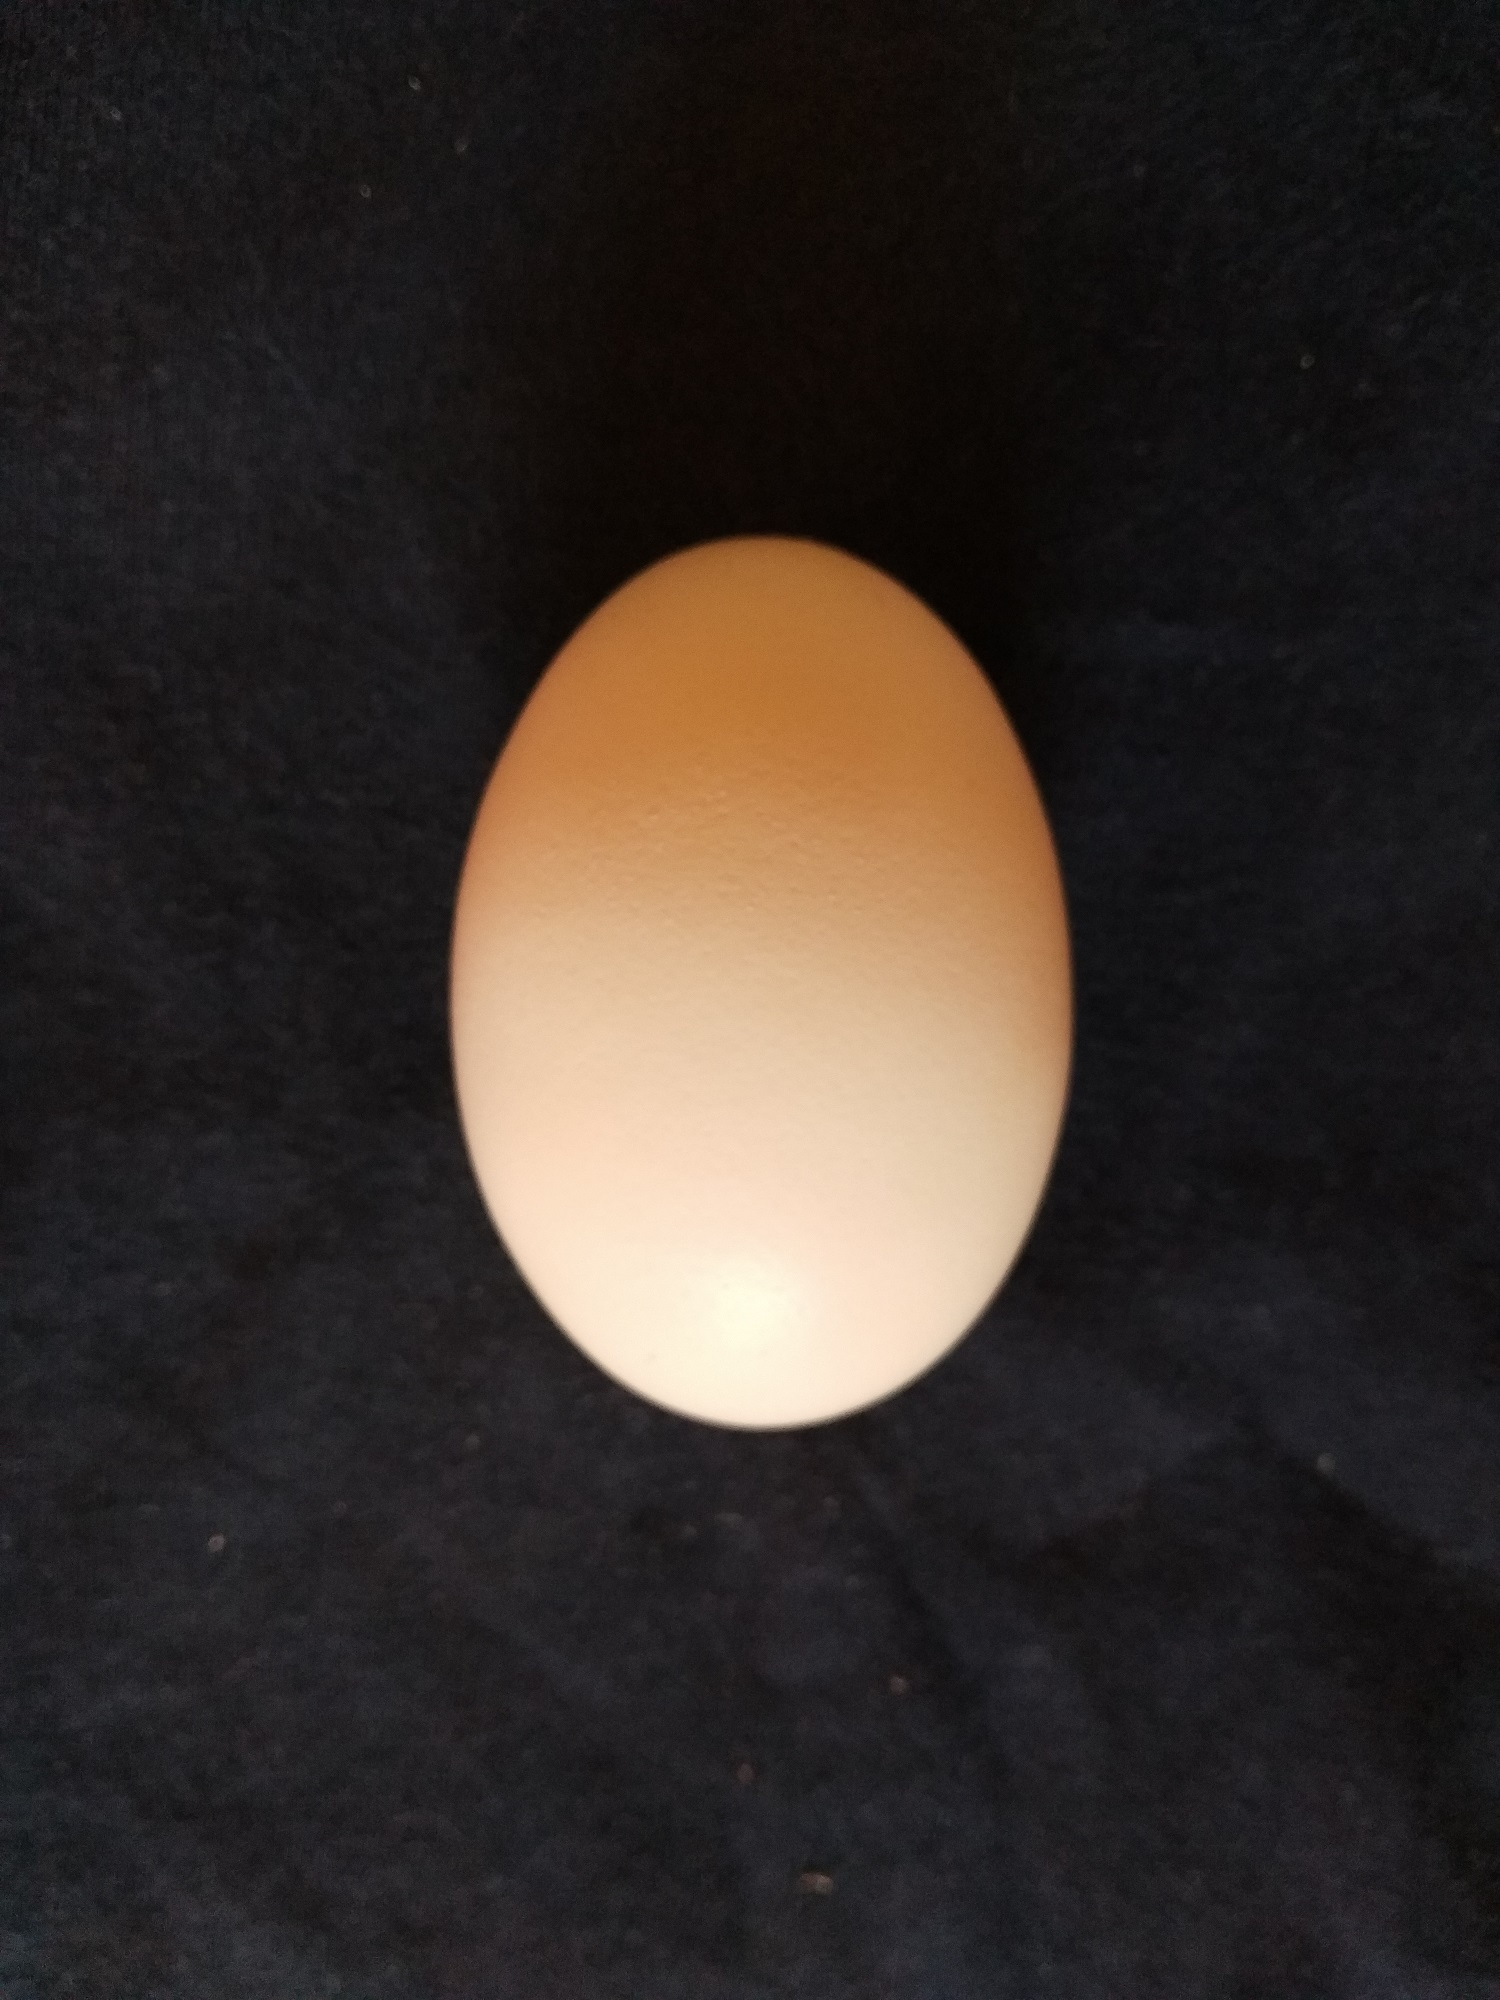Male: (440, 520, 1081, 1439)
